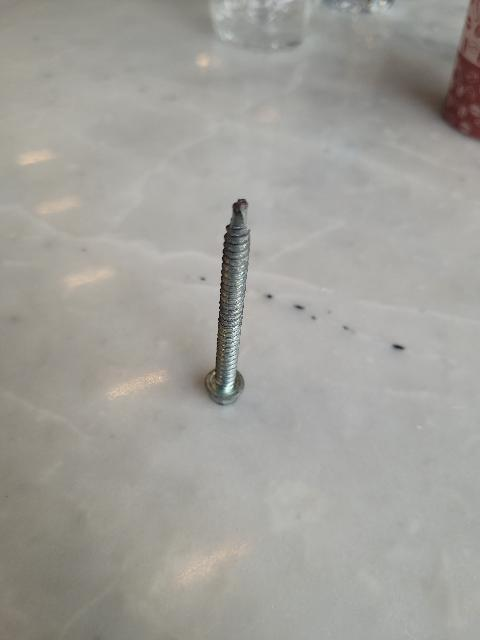Metal: (200, 190, 263, 411)
